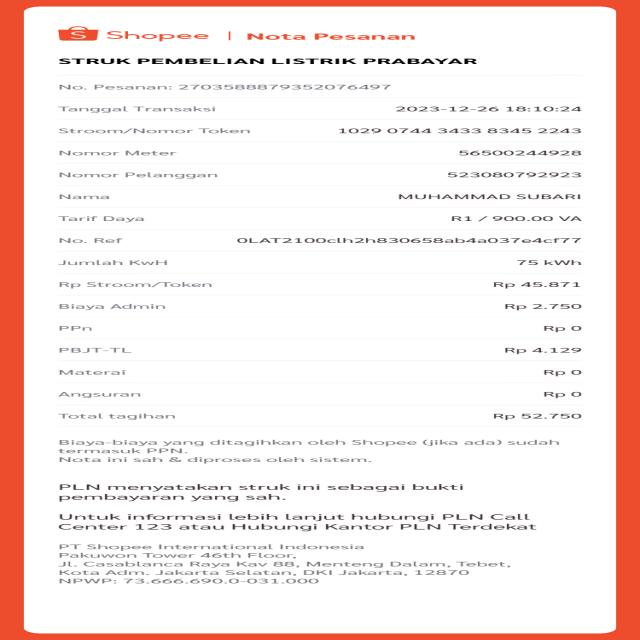date: (390, 105, 590, 115)
store: (52, 56, 495, 68)
total: (46, 411, 590, 422)
